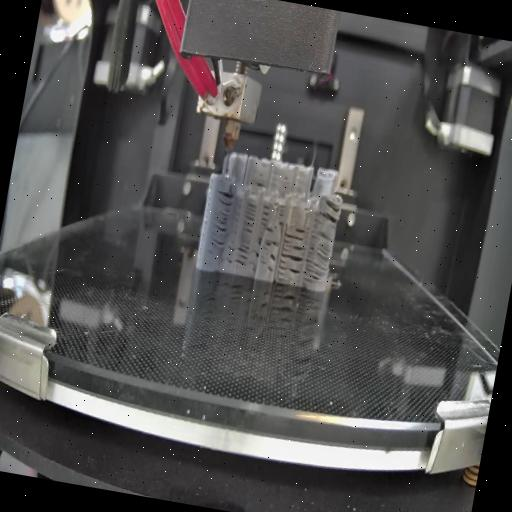cracks: (301, 230, 334, 284), (208, 188, 236, 250), (276, 241, 306, 279), (316, 198, 342, 224), (283, 224, 307, 244), (242, 203, 258, 233), (256, 235, 280, 251), (234, 242, 248, 268), (274, 204, 287, 227), (248, 250, 260, 272), (260, 204, 270, 226), (224, 244, 234, 266), (249, 178, 267, 190), (266, 254, 276, 272), (263, 228, 273, 234)
